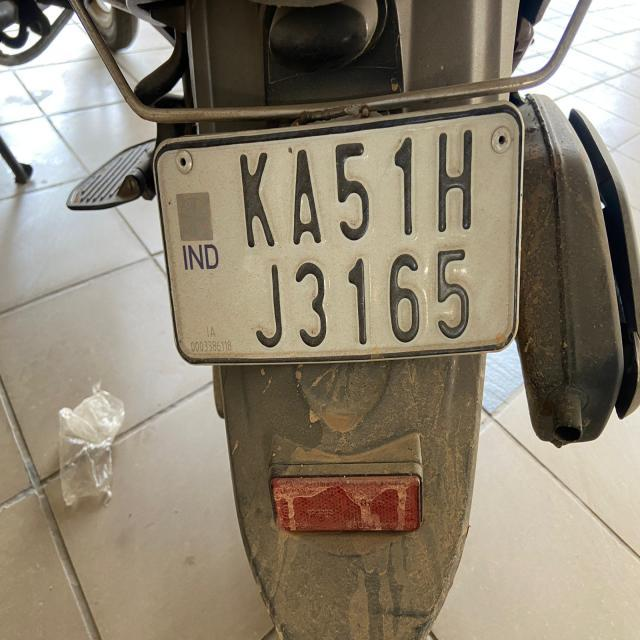1: (389, 138, 424, 248), (340, 250, 374, 344)
3: (289, 259, 331, 351)
5: (333, 138, 375, 254), (427, 244, 472, 346)
6: (386, 246, 426, 356)
A: (286, 142, 330, 250)
H: (433, 119, 480, 238)
J: (247, 255, 287, 358)
K: (230, 143, 282, 254)
